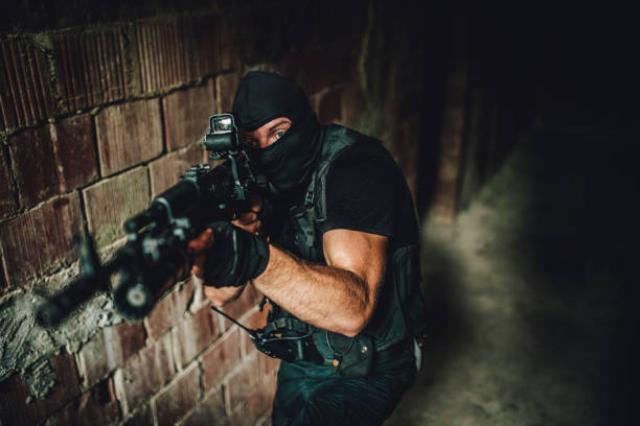other: (189, 74, 435, 414)
